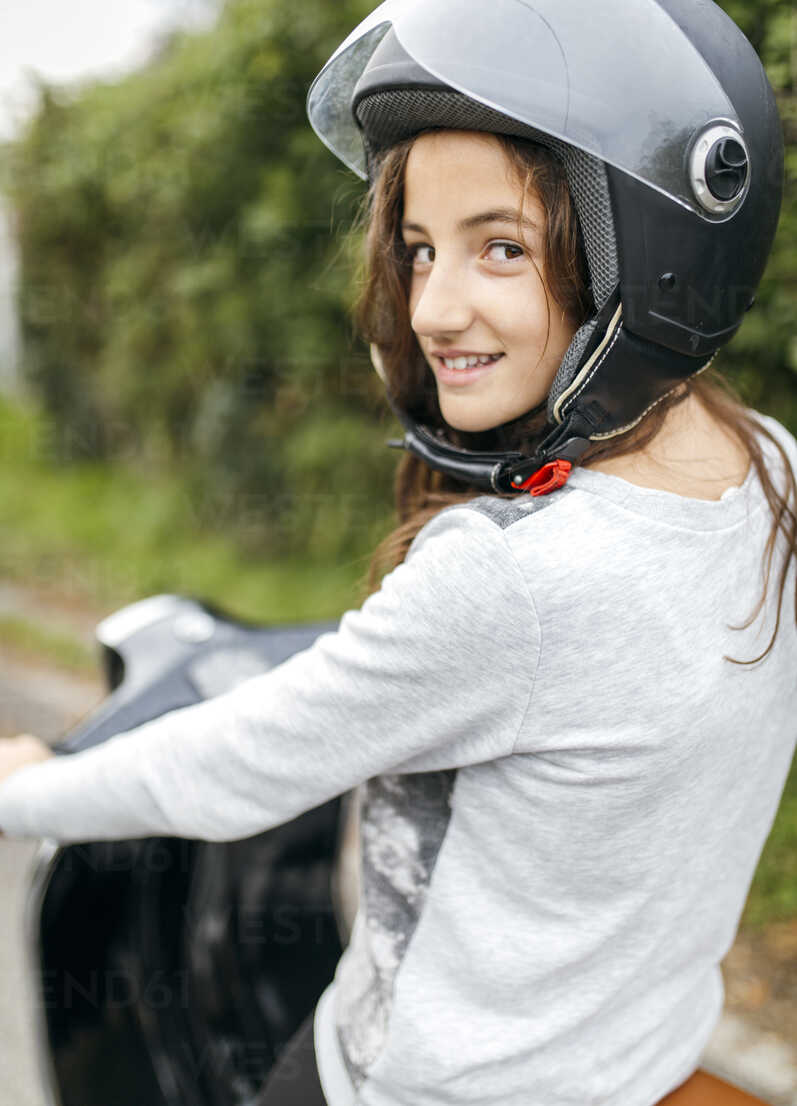helmet: (307, 1, 785, 442)
